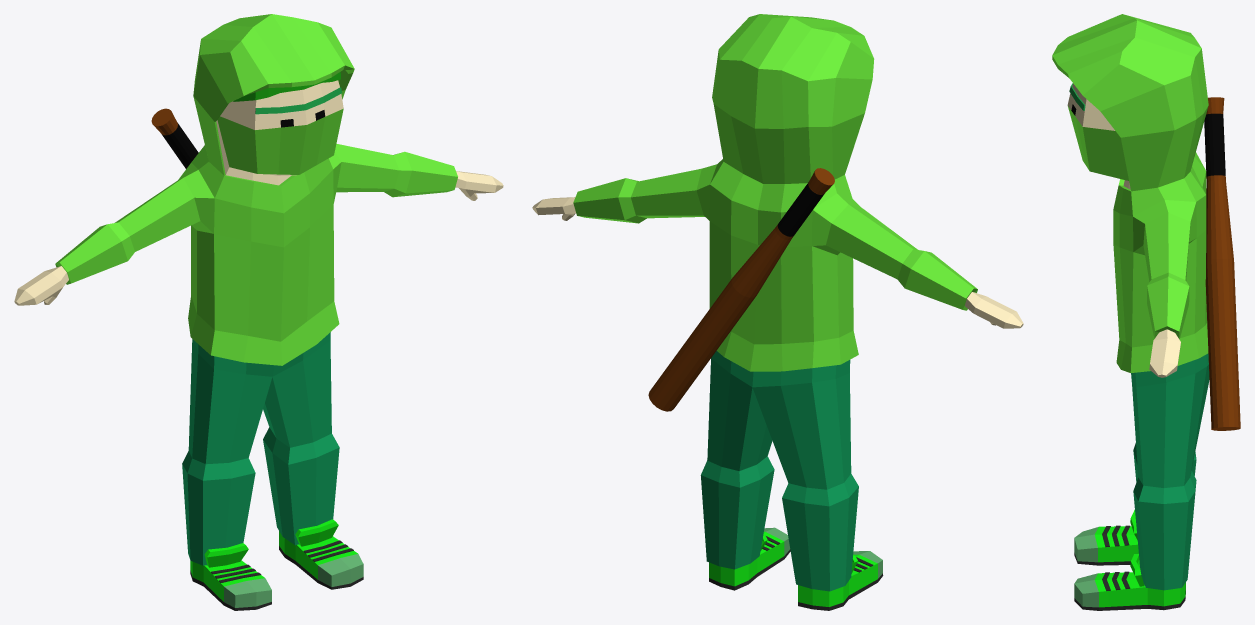
The model's file is Character_Boy_Green.fbx.
The picture shows the model from 3 angles, left to right: view 1: azimuth 30°, elevation 25°; view 2: azimuth 150°, elevation 25°; view 3: azimuth 270°, elevation 25°; orthographic projection.
Visible parts, largest first — view 1: Cube.001, Cylinder.001; view 2: Cube.001, Cylinder.001; view 3: Cube.001, Cylinder.001.
Part boxes in pixels (x1=…): Cube.001: x1=14, y1=14, x2=503, y2=610; Cylinder.001: x1=151, y1=108, x2=198, y2=168; Cube.001: x1=532, y1=14, x2=1023, y2=610; Cylinder.001: x1=648, y1=168, x2=834, y2=411; Cube.001: x1=1052, y1=14, x2=1209, y2=610; Cylinder.001: x1=1204, y1=97, x2=1240, y2=430.
Bounding box in the file's own units: 153 × 169 × 51.67.
